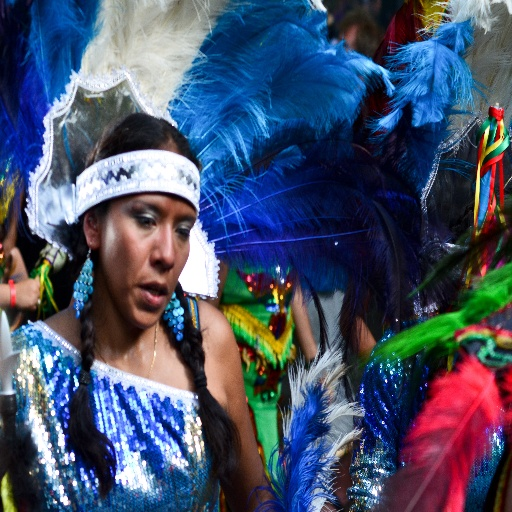hand: (2, 269, 45, 324)
